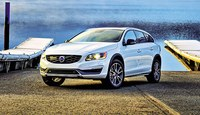car: (41, 27, 162, 87)
